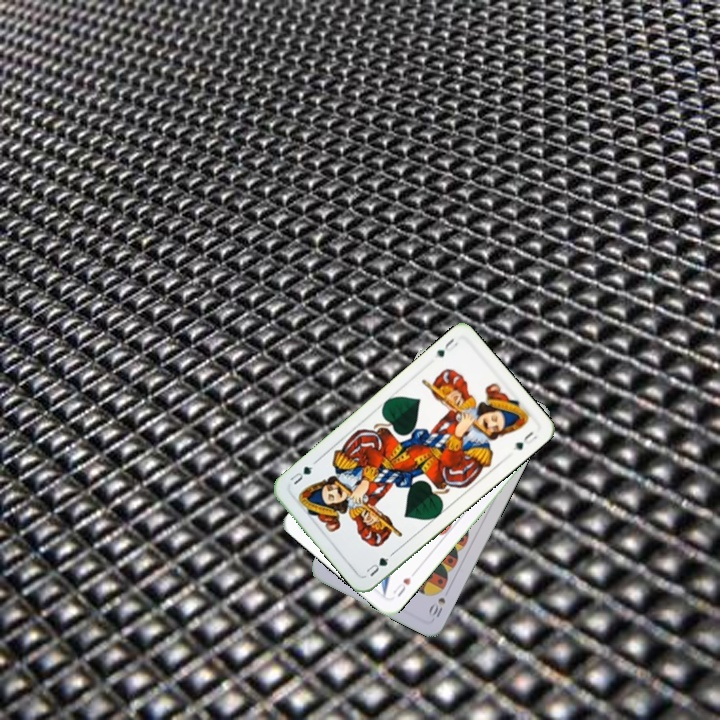GU: (362, 549, 396, 579), (432, 334, 461, 360)
HU: (389, 573, 414, 600)
S10: (426, 593, 448, 620)
